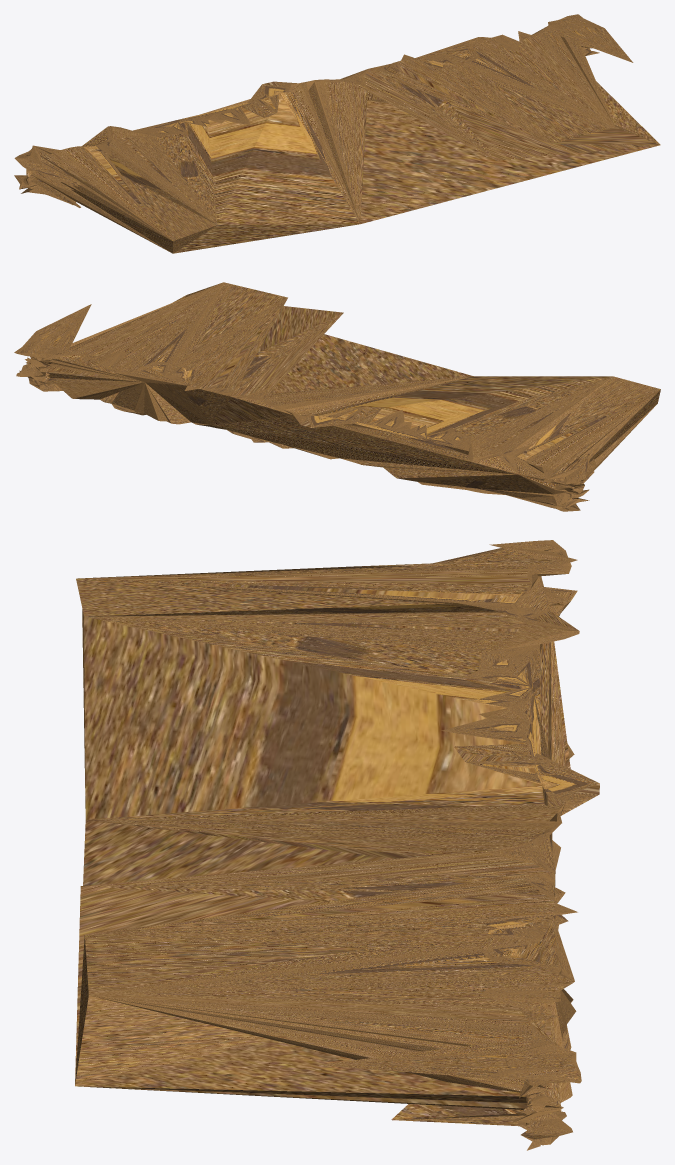
Rendered from cot.glb.
3 renders of one model, top to bottom at view 1: azimuth 30°, elevation 25°; view 2: azimuth 150°, elevation 25°; view 3: azimuth 270°, elevation 25°, orthographic. The views are drawn at different scales.
Visible parts, largest first — view 1: Mesh_0; view 2: Mesh_0; view 3: Mesh_0.
Part boxes in pixels (left/top/right/bottom): Mesh_0: left=14, top=14, right=660, bottom=253; Mesh_0: left=14, top=282, right=660, bottom=511; Mesh_0: left=75, top=540, right=599, bottom=1150.
Bounding box in the file's own units: 1.84 × 0.1201 × 0.7362.
Materials: 1 (1 with a texture image).
